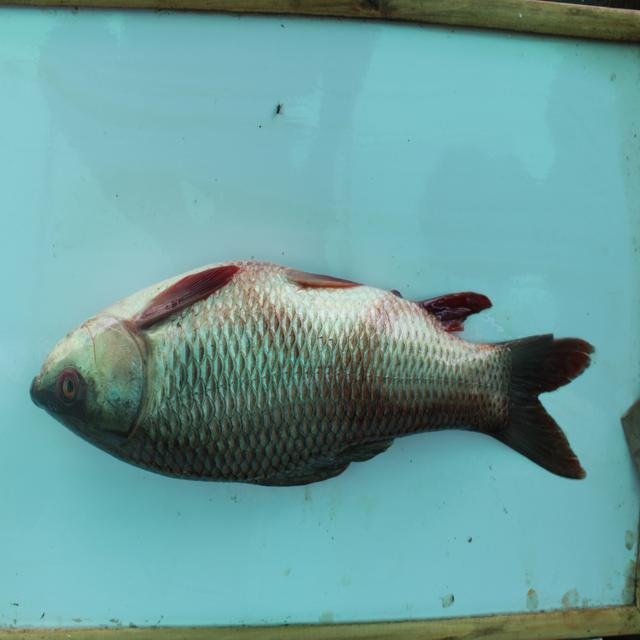Rohu: (34, 251, 584, 504)
